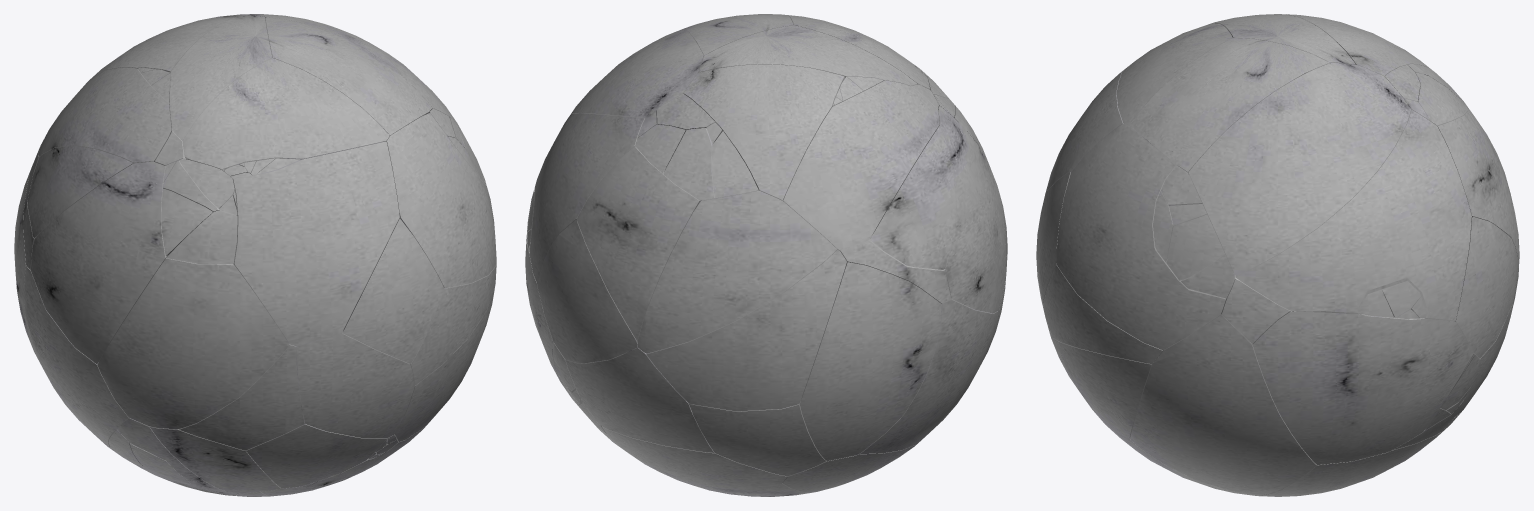
Rendered from rocksphere-transformed.glb.
The picture shows the model from 3 angles, left to right: view 1: azimuth 30°, elevation 25°; view 2: azimuth 150°, elevation 25°; view 3: azimuth 270°, elevation 25°; orthographic projection.
Visible parts, largest first — view 1: Sphere_cell.118, Sphere_cell.086, Sphere_cell.092, Sphere_cell.075, Sphere_cell.081, Sphere_cell.002, Sphere_cell.079, Sphere_cell.067, Sphere_cell.114, Sphere_cell.015, Sphere_cell.084, Sphere_cell.112 (+16 smaller); view 2: Sphere_cell.073, Sphere_cell.007, Sphere_cell.079, Sphere_cell.117, Sphere_cell.047, Sphere_cell.109, Sphere_cell.092, Sphere_cell.012, Sphere_cell.010, Sphere_cell.090, Sphere_cell.084, Sphere_cell.040 (+14 smaller); view 3: Sphere_cell.043, Sphere_cell.012, Sphere_cell.125, Sphere_cell.081, Sphere_cell.001, Sphere_cell.067, Sphere_cell.090, Sphere_cell.124, Sphere_cell.109, Sphere_cell.098, Sphere_cell.075, Sphere_cell.015 (+19 smaller).
Part boxes in pixels (left/top/right/bottom): Sphere_cell.118: left=227, top=141, right=399, bottom=345; Sphere_cell.086: left=97, top=258, right=289, bottom=429; Sphere_cell.092: left=30, top=161, right=167, bottom=363; Sphere_cell.075: left=182, top=58, right=389, bottom=172; Sphere_cell.081: left=383, top=112, right=496, bottom=287; Sphere_cell.002: left=296, top=330, right=414, bottom=437; Sphere_cell.079: left=38, top=67, right=171, bottom=163; Sphere_cell.067: left=265, top=17, right=432, bottom=135; Sphere_cell.114: left=342, top=218, right=444, bottom=363; Sphere_cell.015: left=169, top=15, right=272, bottom=140; Sphere_cell.084: left=24, top=265, right=129, bottom=447; Sphere_cell.112: left=178, top=344, right=304, bottom=450; Sphere_cell.073: left=799, top=262, right=941, bottom=461; Sphere_cell.007: left=637, top=190, right=837, bottom=353; Sphere_cell.079: left=783, top=80, right=939, bottom=249; Sphere_cell.117: left=646, top=249, right=846, bottom=411; Sphere_cell.047: left=683, top=64, right=844, bottom=201; Sphere_cell.109: left=576, top=146, right=701, bottom=341; Sphere_cell.092: left=937, top=105, right=1006, bottom=313; Sphere_cell.012: left=529, top=113, right=644, bottom=282; Sphere_cell.010: left=565, top=346, right=714, bottom=452; Sphere_cell.090: left=537, top=220, right=637, bottom=363; Sphere_cell.084: left=859, top=298, right=998, bottom=454; Sphere_cell.040: left=870, top=126, right=956, bottom=269; Sphere_cell.043: left=1188, top=63, right=1411, bottom=275; Sphere_cell.012: left=1235, top=109, right=1471, bottom=321; Sphere_cell.125: left=1252, top=311, right=1473, bottom=464; Sphere_cell.081: left=1056, top=124, right=1226, bottom=350; Sphere_cell.001: left=1130, top=314, right=1316, bottom=495; Sphere_cell.067: left=1129, top=38, right=1329, bottom=174; Sphere_cell.090: left=1455, top=216, right=1518, bottom=358; Sphere_cell.124: left=1053, top=338, right=1156, bottom=438; Sphere_cell.109: left=1437, top=111, right=1518, bottom=259; Sphere_cell.098: left=1043, top=265, right=1163, bottom=363; Sphere_cell.075: left=1116, top=23, right=1232, bottom=127; Sphere_cell.015: left=1213, top=14, right=1355, bottom=64.
Size of the model in its own units: 2 by 2 by 2.
1 material, 1 textured.
